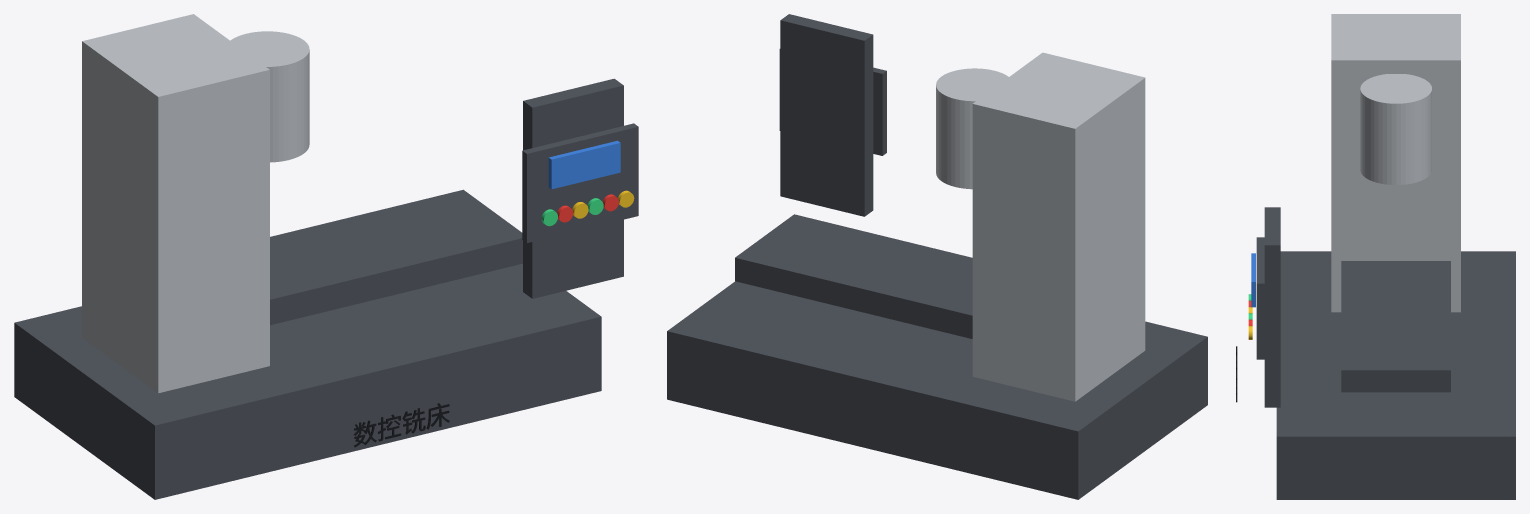
File: asset_cnc_mill.glb
3 views of the same model, side by side, from view 1: azimuth 30°, elevation 25°; view 2: azimuth 150°, elevation 25°; view 3: azimuth 270°, elevation 25° (orthographic). The views are drawn at different scales.
Parts seen in each view (by area): view 1: base, column, table, control_box, mill_panel, spindle_head, mill_screen, asset_label; view 2: base, column, table, control_box, spindle_head, mill_panel; view 3: base, column, table, spindle_head, control_box, mill_panel.
Part boxes in pixels (x1=…): base: x1=14, y1=263, x2=601, y2=499; column: x1=82, y1=14, x2=269, y2=393; table: x1=270, y1=189, x2=522, y2=325; control_box: x1=523, y1=78, x2=623, y2=298; mill_panel: x1=522, y1=123, x2=638, y2=242; spindle_head: x1=230, y1=31, x2=309, y2=162; mill_screen: x1=548, y1=140, x2=620, y2=189; asset_label: x1=353, y1=403, x2=449, y2=447; base: x1=667, y1=281, x2=1207, y2=499; column: x1=972, y1=52, x2=1145, y2=401; table: x1=735, y1=214, x2=972, y2=338; control_box: x1=780, y1=14, x2=873, y2=216; spindle_head: x1=936, y1=68, x2=1008, y2=189; mill_panel: x1=779, y1=49, x2=886, y2=155; base: x1=1276, y1=251, x2=1515, y2=499; column: x1=1331, y1=14, x2=1460, y2=312; table: x1=1341, y1=261, x2=1450, y2=392; spindle_head: x1=1360, y1=74, x2=1431, y2=184; control_box: x1=1264, y1=207, x2=1280, y2=407; mill_panel: x1=1256, y1=237, x2=1264, y2=359.
Bounding box in the file's own units: 2.33 × 1.74 × 1.4.
